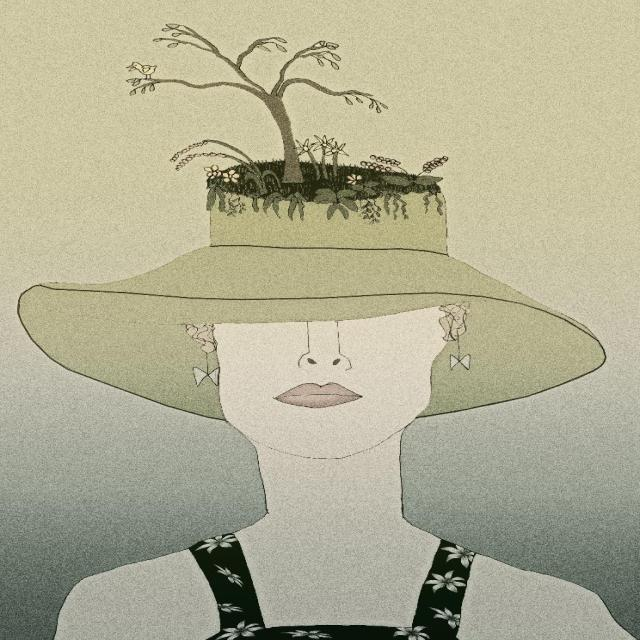Hat: (17, 157, 605, 421)
